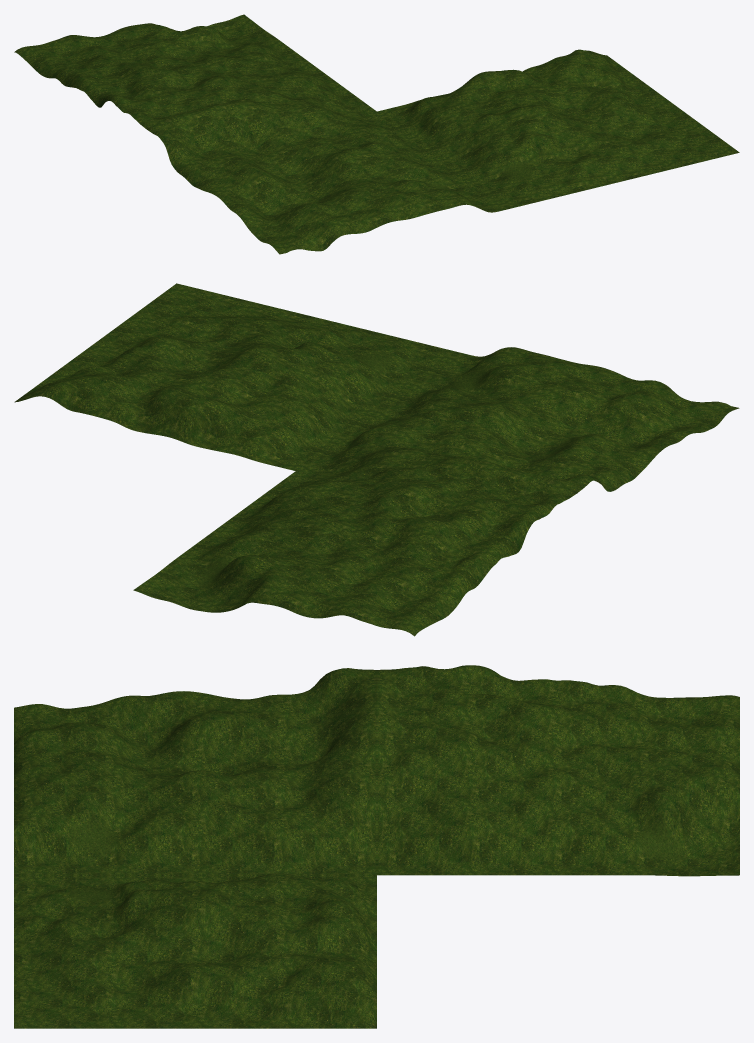
The model's file is terrain_1_0.dae.
3 renders of one model, top to bottom at view 1: azimuth 30°, elevation 25°; view 2: azimuth 150°, elevation 25°; view 3: azimuth 270°, elevation 25°, orthographic. The views are drawn at different scales.
Visible parts, largest first — view 1: Plane_001, Plane_000, Plane_002; view 2: Plane_002, Plane_000, Plane_001; view 3: Plane_002, Plane_001, Plane_000.
Part boxes in pixels (x1,y1,x2,y2): Plane_001: (147,102,509,254); Plane_000: (377,49,739,208); Plane_002: (14,14,376,129); Plane_002: (133,460,576,636); Plane_000: (14,283,457,470); Plane_001: (296,347,739,493); Plane_002: (377,665,739,876); Plane_001: (14,668,376,875); Plane_000: (14,873,376,1028).
Bounding box in the file's own units: 200 × 200 × 20.66.
1 material, 1 textured.
